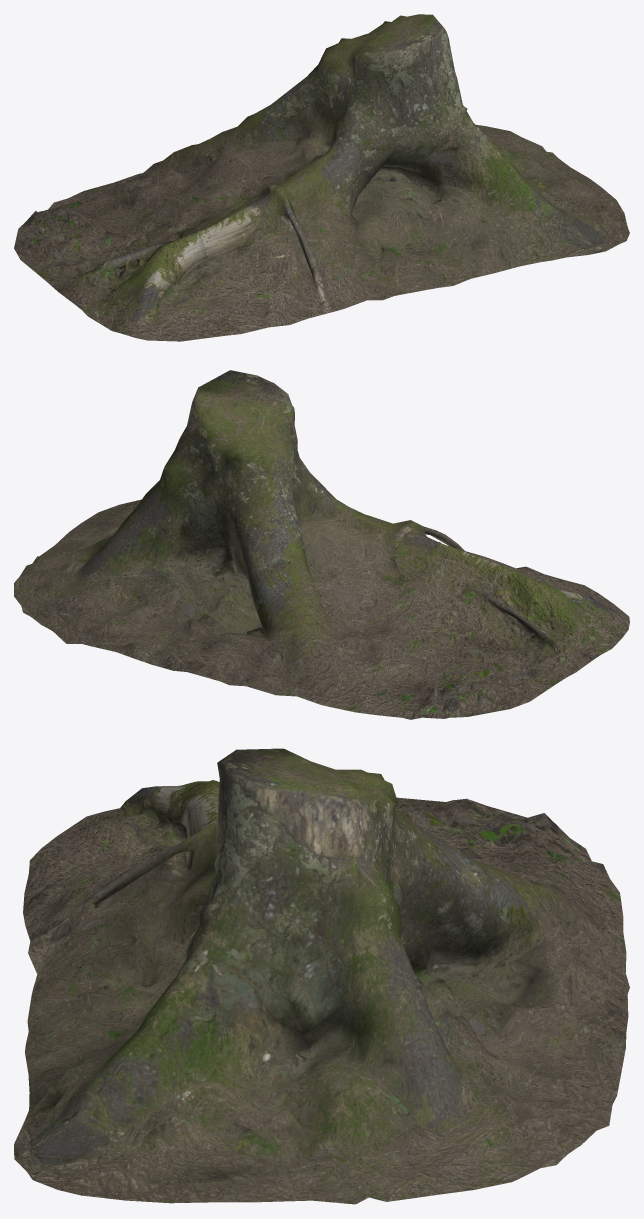
Rendered from PX_Stump_06_LOD3.fbx.
3 renders of one model, top to bottom at view 1: azimuth 30°, elevation 25°; view 2: azimuth 150°, elevation 25°; view 3: azimuth 270°, elevation 25°, orthographic. The views are drawn at different scales.
Parts seen in each view (by area): view 1: PX_Stump_06_LOD3; view 2: PX_Stump_06_LOD3; view 3: PX_Stump_06_LOD3.
Part boxes in pixels (left/top/right/bottom): PX_Stump_06_LOD3: left=14, top=14, right=629, bottom=341; PX_Stump_06_LOD3: left=14, top=370, right=629, bottom=719; PX_Stump_06_LOD3: left=14, top=748, right=629, bottom=1204.
Size of the model in its own units: 248 by 89.97 by 160.
